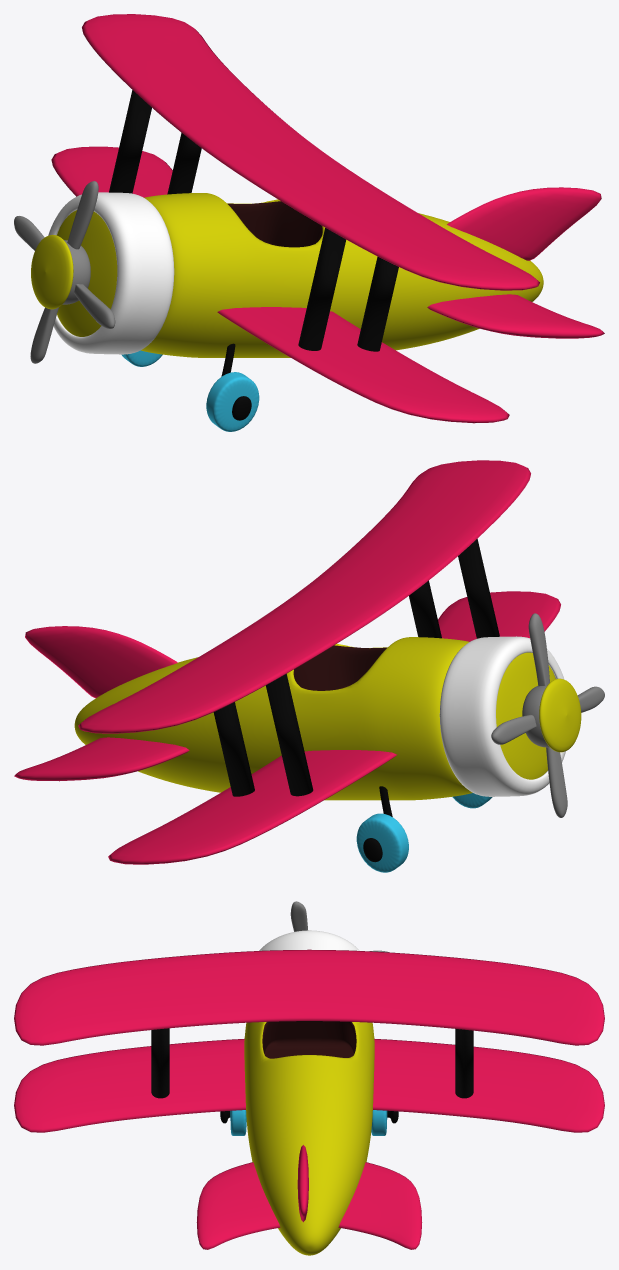
Rendered from asset.glb.
The picture shows the model from 3 angles, top to bottom: view 1: azimuth 30°, elevation 25°; view 2: azimuth 150°, elevation 25°; view 3: azimuth 270°, elevation 25°; orthographic projection. The views are drawn at different scales.
Parts seen in each view (by area): view 1: front_wings; view 2: front_wings; view 3: front_wings.
Part boxes in pixels (x1,y1,x2,y2): front_wings: (14, 14, 604, 431); front_wings: (14, 460, 604, 872); front_wings: (14, 901, 604, 1255).
Bounding box in the file's own units: 3.18 × 1.33 × 3.68.
